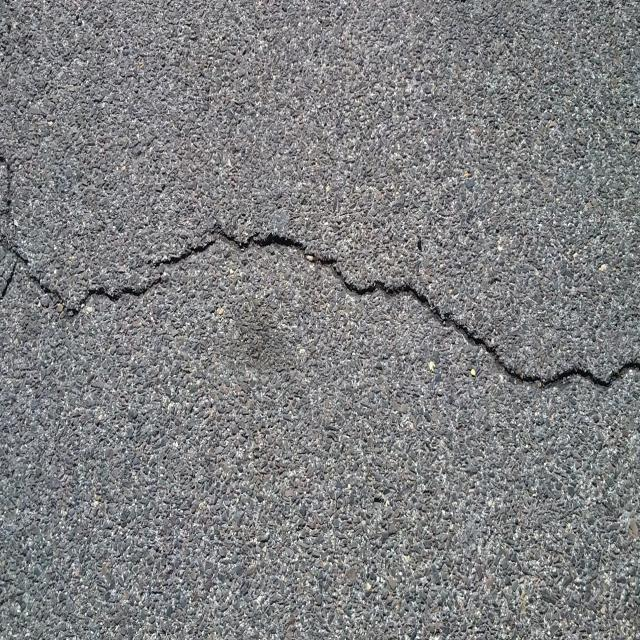Crack: (0, 148, 640, 401)
